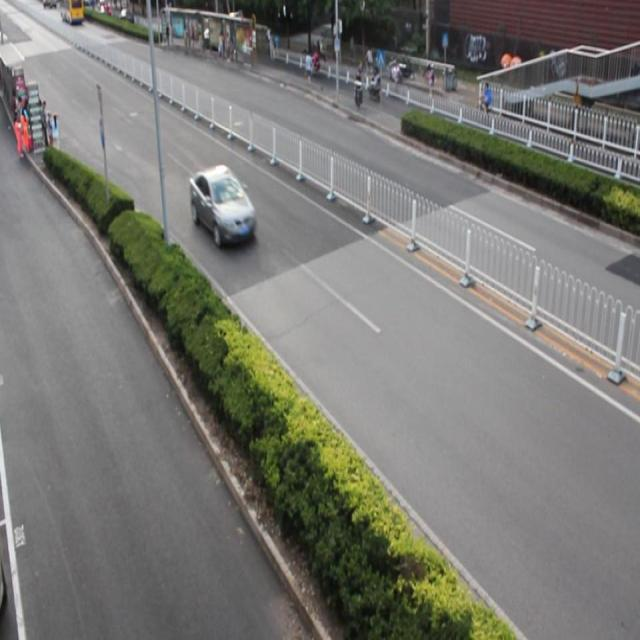car: (190, 162, 255, 250)
